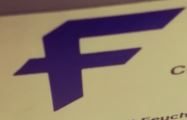Fisher: (12, 7, 185, 113)
